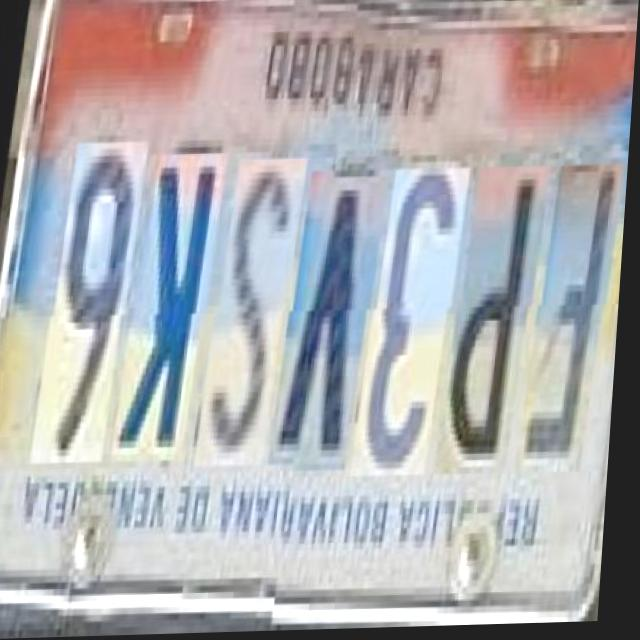3: (355, 163, 464, 473)
6: (34, 143, 140, 465)
f: (520, 161, 619, 470)
k: (114, 155, 219, 464)
p: (439, 163, 545, 472)
s: (197, 160, 300, 469)
v: (272, 172, 382, 468)
